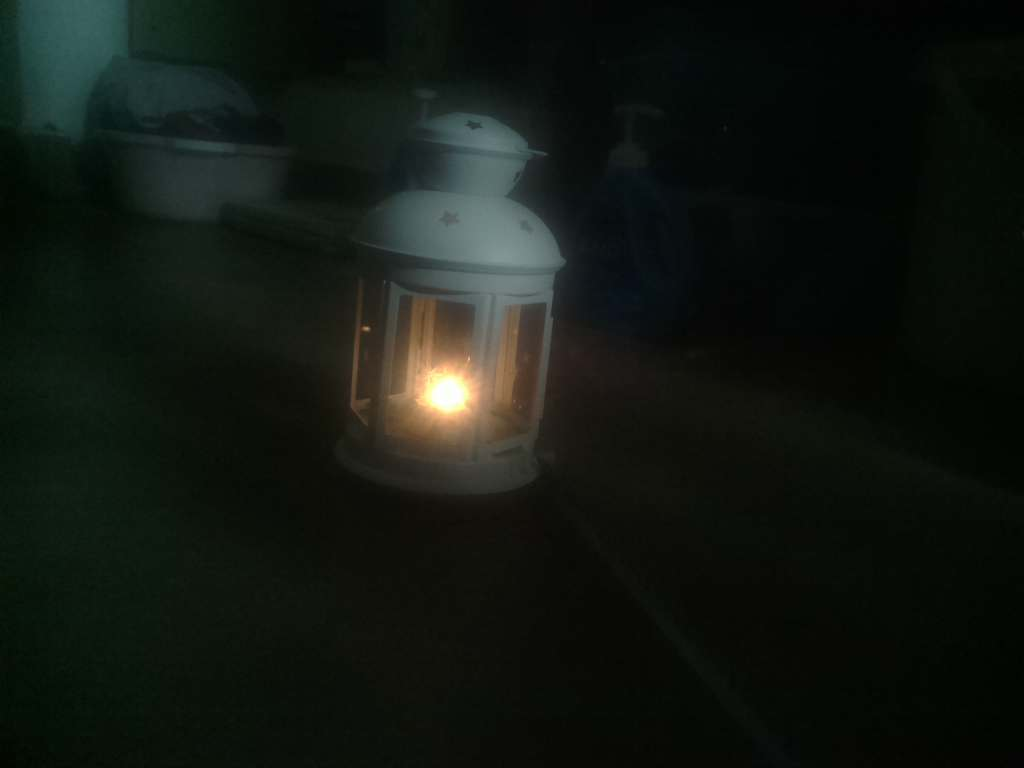fire: (402, 343, 497, 446)
